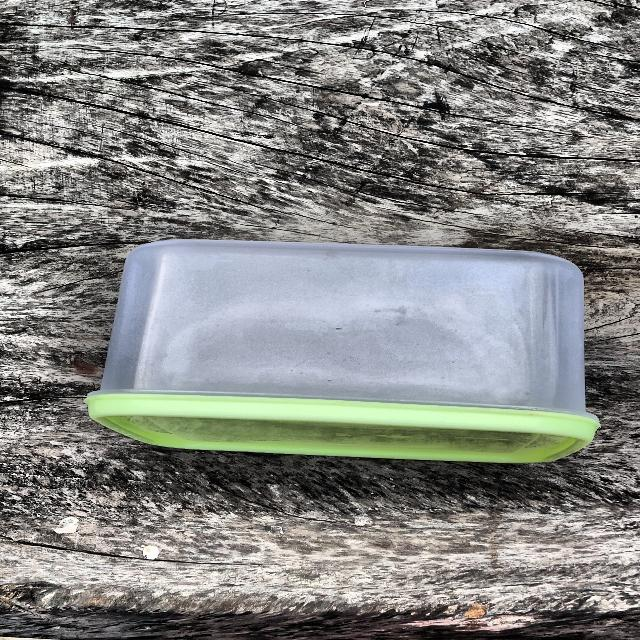plastic container: (66, 213, 610, 486)
